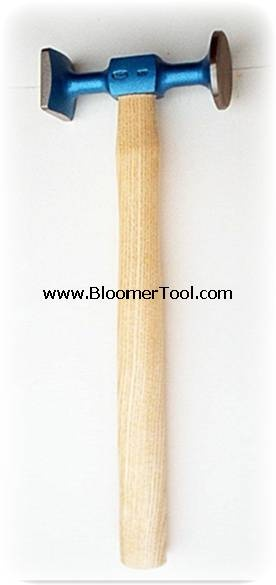hammer: (37, 29, 238, 562)
